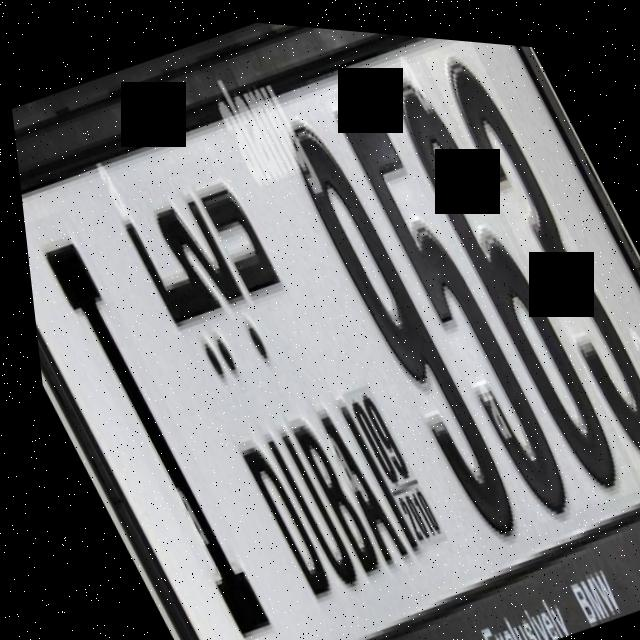3: (420, 29, 640, 472)
5: (320, 77, 576, 517)
6: (369, 49, 633, 500)
9: (253, 90, 540, 571)
I: (18, 205, 277, 640)
